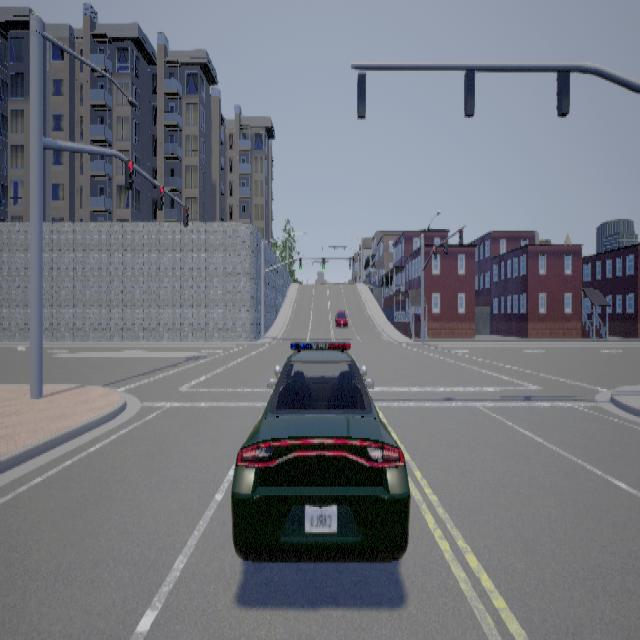green_light: (322, 257, 326, 269), (300, 258, 302, 270)
red_light: (126, 158, 135, 189), (158, 183, 165, 209), (184, 203, 190, 226), (459, 226, 464, 244), (444, 238, 449, 252), (434, 244, 438, 258)
traffic_light: (350, 256, 352, 268), (360, 254, 362, 261)
vehicle: (232, 340, 412, 561), (336, 305, 350, 328)
